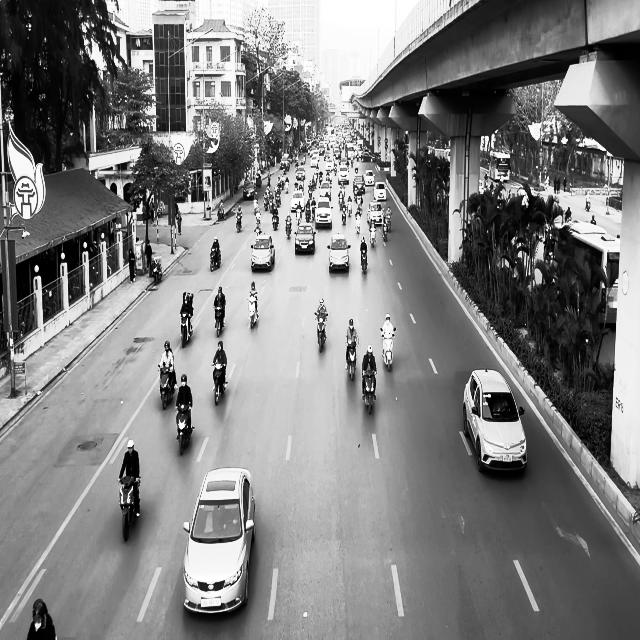bus: (551, 218, 620, 328), (488, 150, 511, 182)
car: (182, 467, 256, 615), (462, 368, 528, 474), (250, 233, 275, 271), (327, 234, 351, 272), (294, 223, 316, 254), (315, 196, 333, 228), (367, 201, 383, 225), (290, 190, 304, 212), (242, 180, 256, 199), (374, 182, 386, 200)
motorbike: (118, 475, 141, 542), (175, 403, 194, 455), (158, 363, 174, 410), (380, 327, 396, 372), (211, 362, 227, 405), (362, 369, 377, 414), (314, 312, 328, 352), (345, 338, 358, 381), (179, 310, 193, 347), (248, 294, 258, 328), (214, 304, 224, 337), (151, 256, 162, 284), (210, 246, 221, 271), (360, 246, 367, 274), (236, 213, 242, 233)
